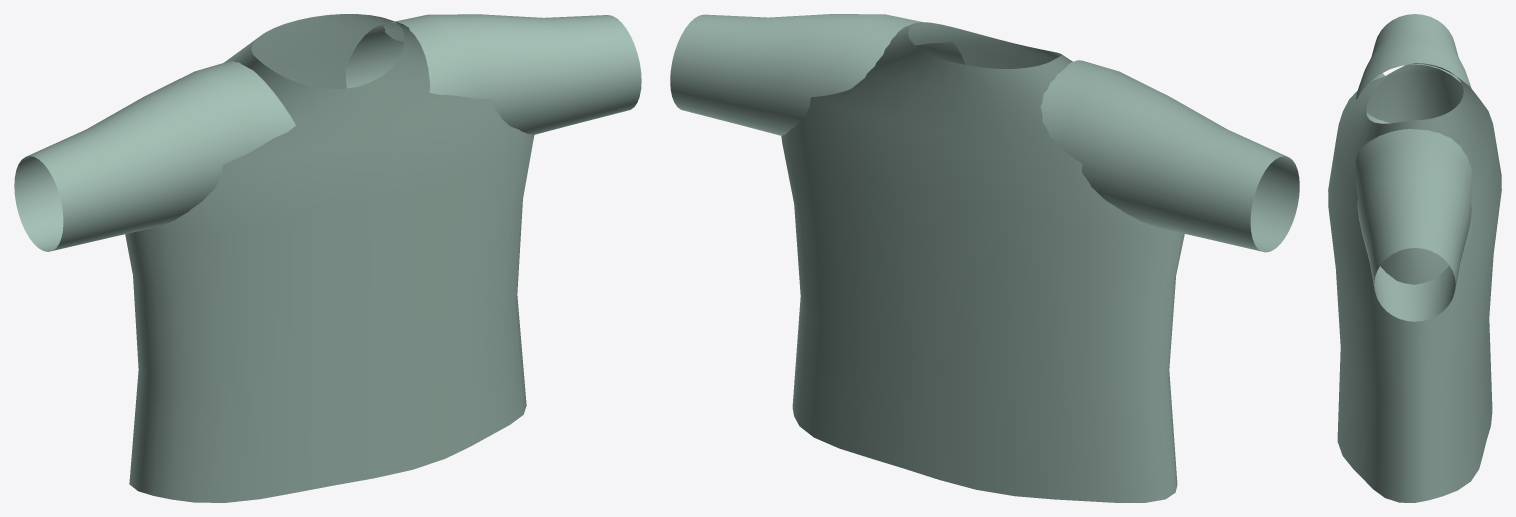
File: soft-tee.glb
3 renders of one model, left to right at view 1: azimuth 30°, elevation 25°; view 2: azimuth 150°, elevation 25°; view 3: azimuth 270°, elevation 25°, orthographic. The views are drawn at different scales.
Parts seen in each view (by area): view 1: Torso, SleeveLeft, SleeveRight; view 2: Torso, SleeveLeft, SleeveRight; view 3: Torso, SleeveRight, SleeveLeft.
Boxes of the visible parts, x1,y1,x2,y2 form: Torso: (125, 14, 534, 502); SleeveLeft: (14, 61, 295, 251); SleeveRight: (345, 14, 641, 134); Torso: (781, 22, 1184, 502); SleeveLeft: (1040, 60, 1299, 252); SleeveRight: (670, 14, 965, 135); Torso: (1328, 63, 1501, 502); SleeveRight: (1356, 129, 1472, 321); SleeveLeft: (1356, 14, 1471, 123).
Size of the model in its own units: 2.04 by 1.36 by 0.64.
